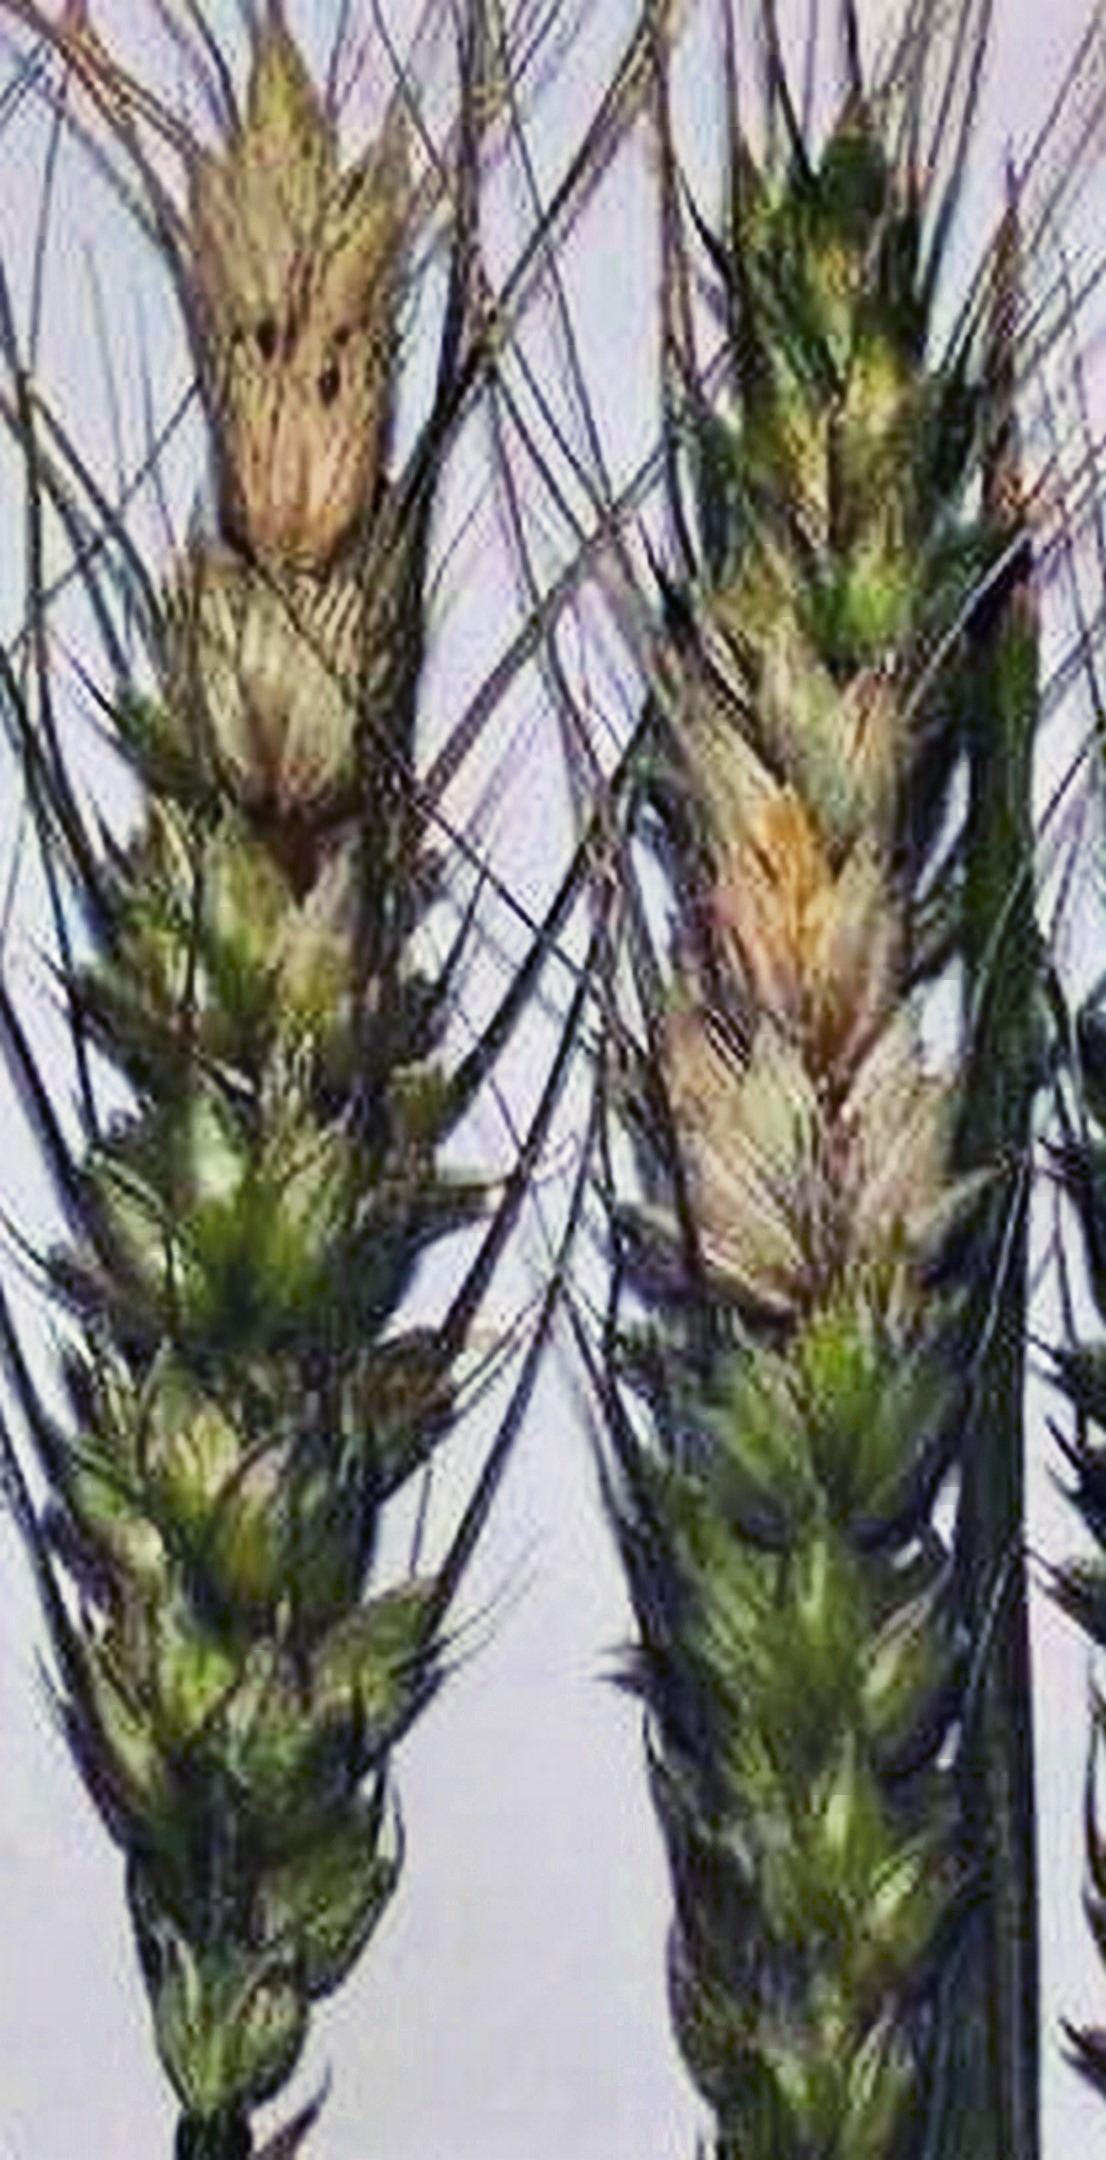Wheat scab: (545, 147, 1059, 2091), (8, 75, 429, 2070)
